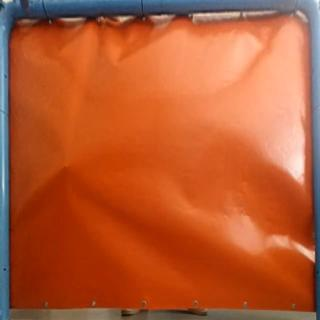Hit-hRxx: (57, 159, 75, 173)
